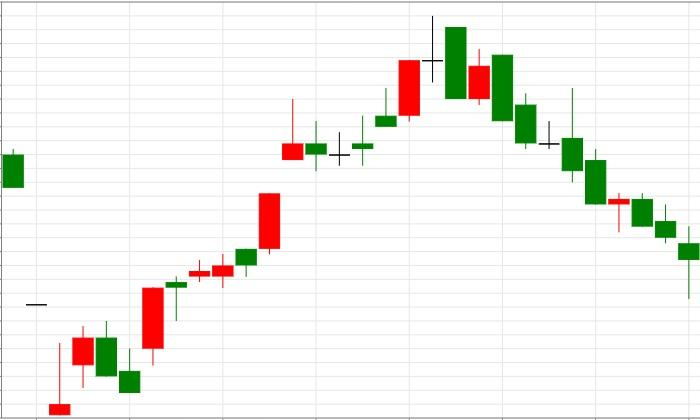shooting_star_fall: (118, 98, 304, 394)
